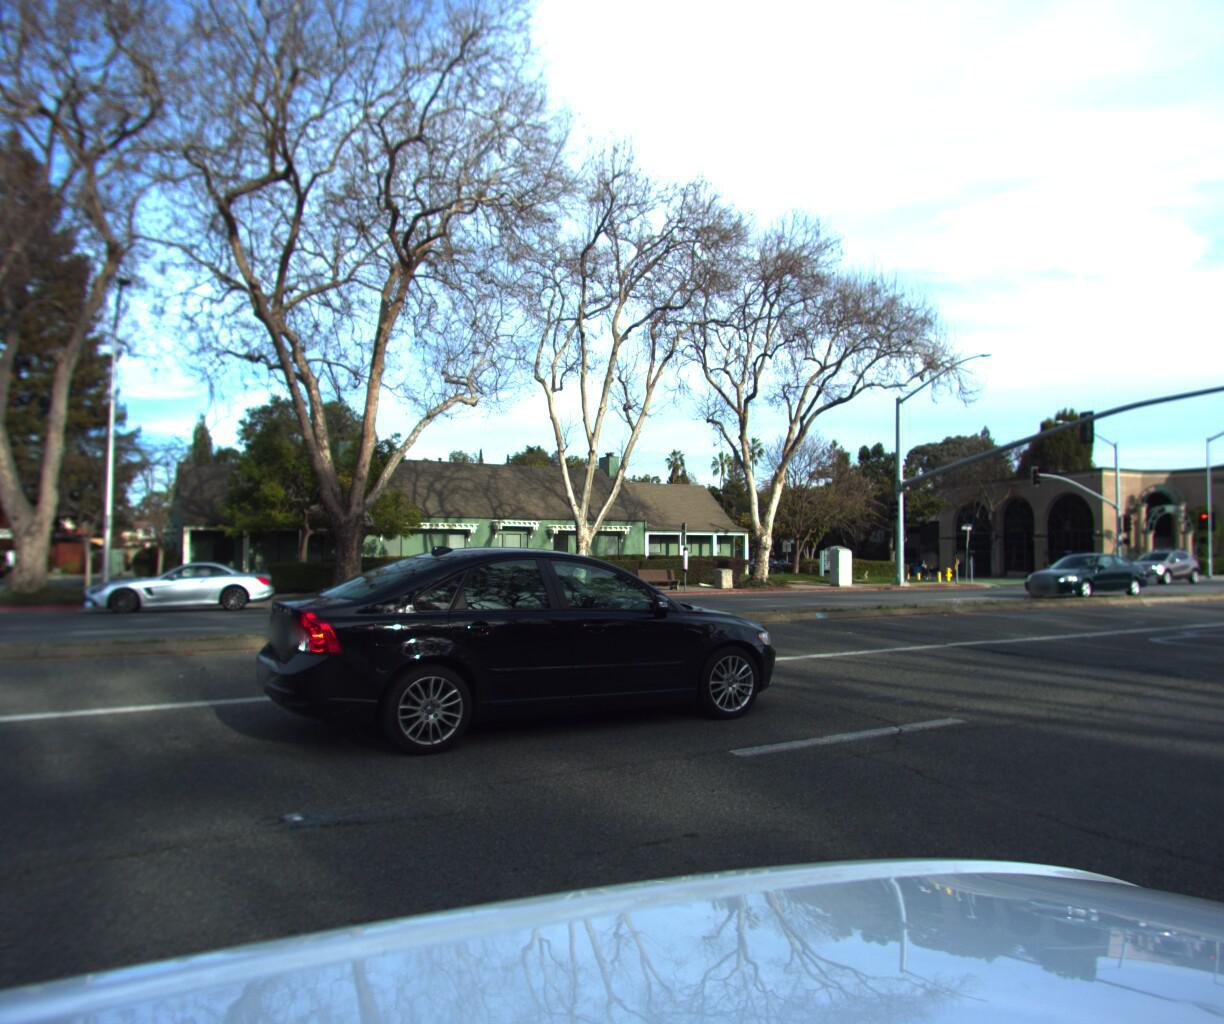car: (262, 538, 802, 774), (83, 554, 283, 617), (1008, 549, 1156, 599), (1114, 543, 1202, 581)
